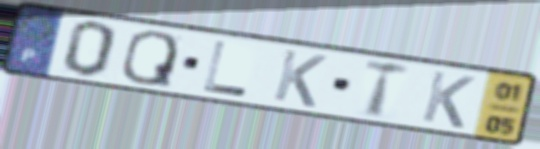0: (58, 18, 119, 80)
K: (418, 68, 479, 131), (269, 47, 330, 110)
L: (201, 38, 252, 99)
Q: (119, 29, 181, 90)
T: (360, 57, 413, 121)
